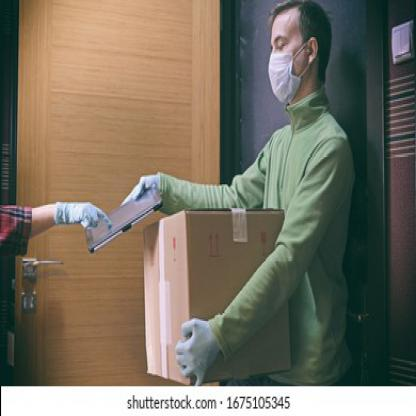with_gloves: (176, 318, 221, 386), (53, 199, 112, 232), (119, 171, 160, 208)
